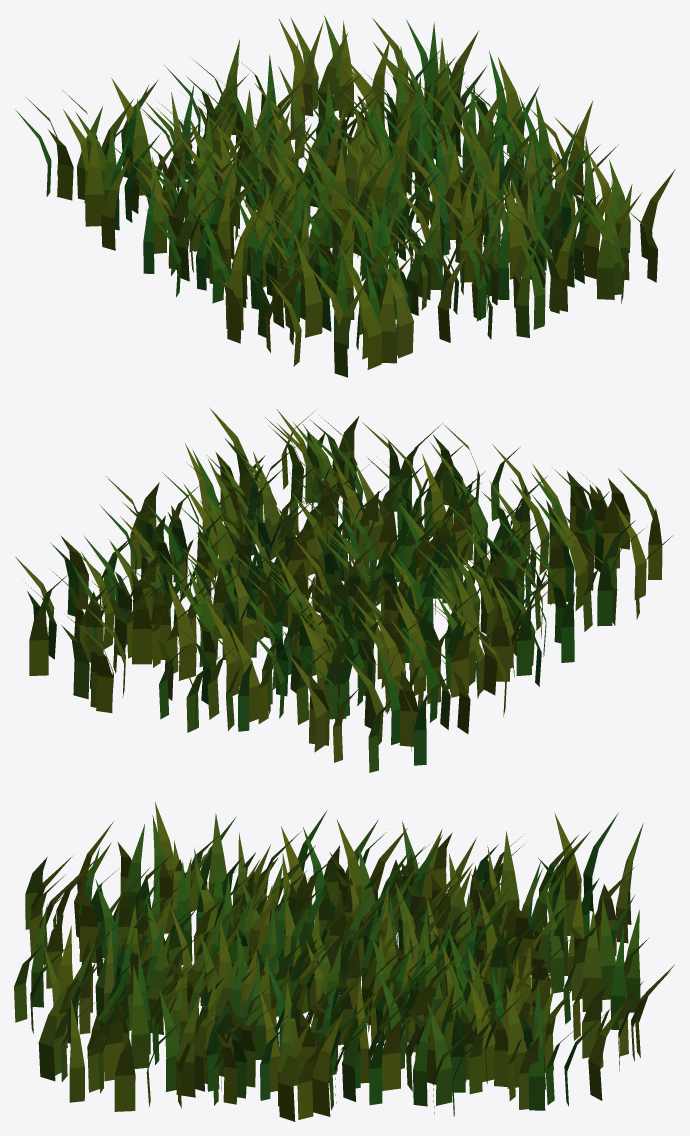
File: tallgrass_ultra.fbx
3 renders of one model, top to bottom at view 1: azimuth 30°, elevation 25°; view 2: azimuth 150°, elevation 25°; view 3: azimuth 270°, elevation 25°, orthographic. The views are drawn at different scales.
Visible parts, largest first — view 1: tallgrass_ULTRA; view 2: tallgrass_ULTRA; view 3: tallgrass_ULTRA.
Part boxes in pixels (x1=…): tallgrass_ULTRA: x1=15, y1=15, x2=675, y2=377; tallgrass_ULTRA: x1=15, y1=408, x2=673, y2=772; tallgrass_ULTRA: x1=14, y1=802, x2=674, y2=1121.
Size of the model in its own units: 1250 by 214 by 1441.
